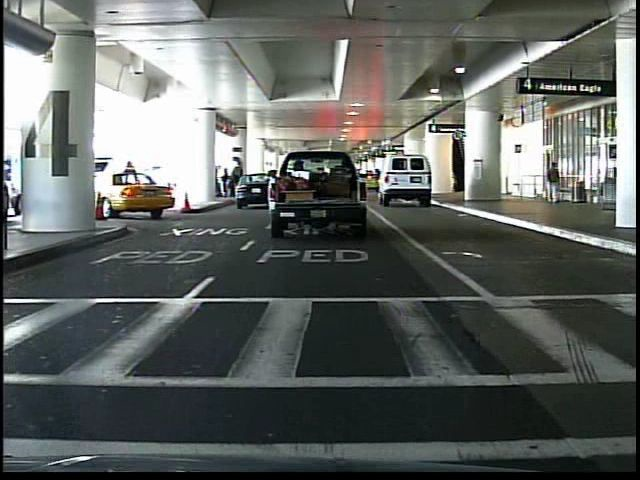person: (542, 157, 563, 209)
